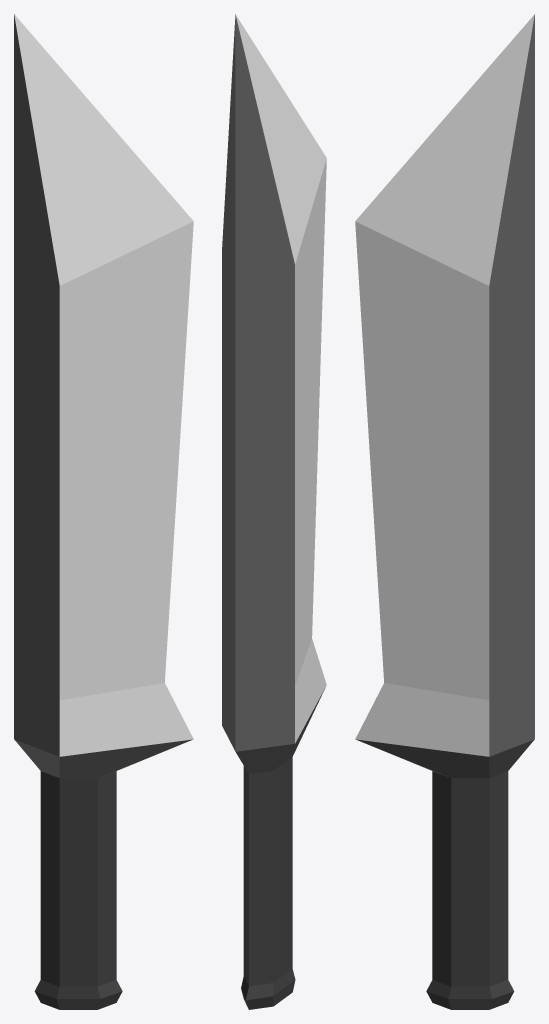
The model's file is Blade.fbx.
3 renders of one model, left to right at view 1: azimuth 90°, elevation 25°; view 2: azimuth 150°, elevation 25°; view 3: azimuth 270°, elevation 25°, orthographic.
Parts seen in each view (by area): view 1: Blade; view 2: Blade; view 3: Blade.
Part boxes in pixels (bbox=[...]): Blade: bbox=[14, 14, 193, 1009]; Blade: bbox=[222, 14, 326, 1009]; Blade: bbox=[355, 14, 534, 1009].
Size of the model in its own units: 1.35 by 8.17 by 0.6204.
